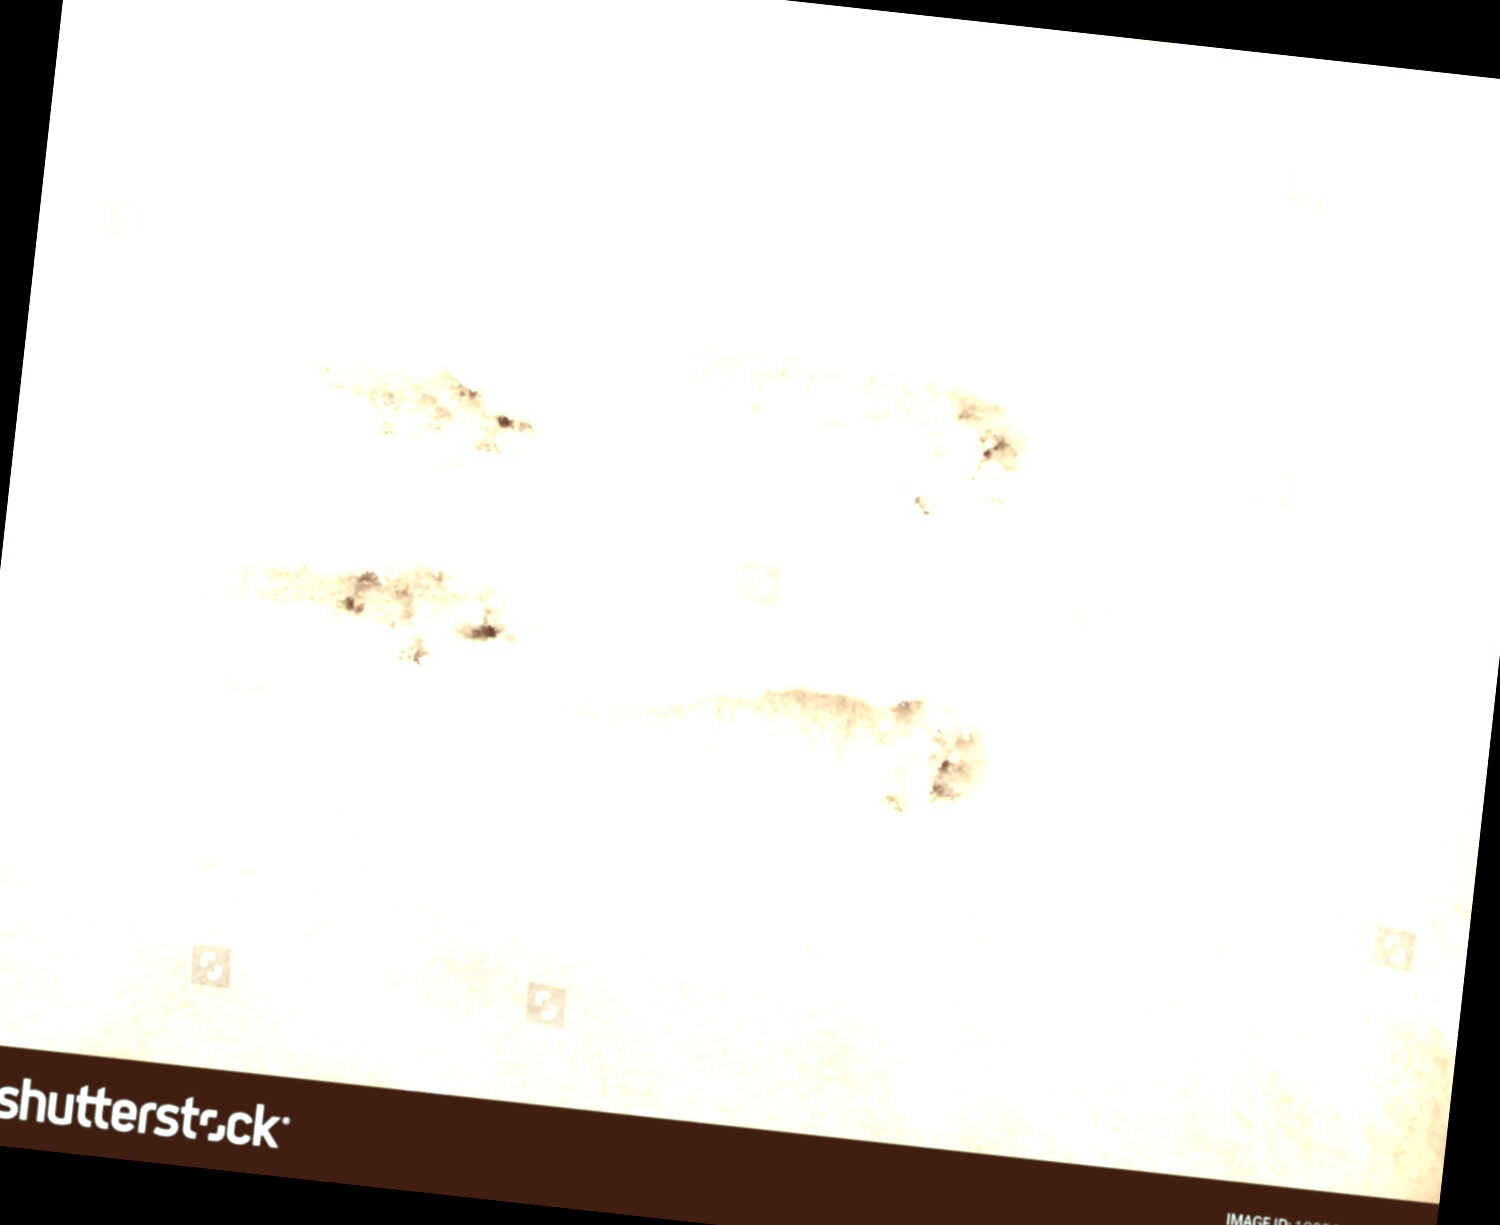ecureuil: (622, 290, 1044, 536), (196, 358, 571, 527), (633, 655, 1020, 814), (181, 579, 583, 722)
